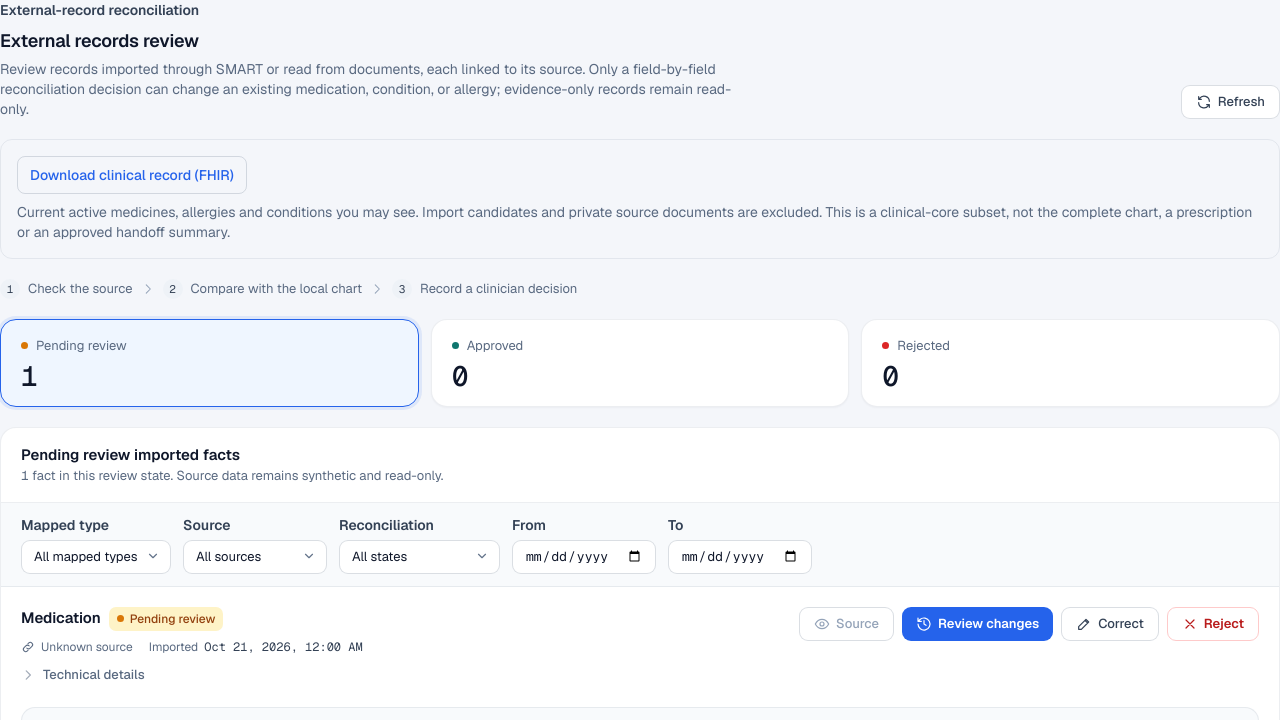
Test: Medication reference in reconciliation preview › explains unavailable without inferring medication safety
The width and height of the screenshot is (1280, 720).
Step 1. Click the button "Review changes" → (978, 624), box [902,606,1053,640]
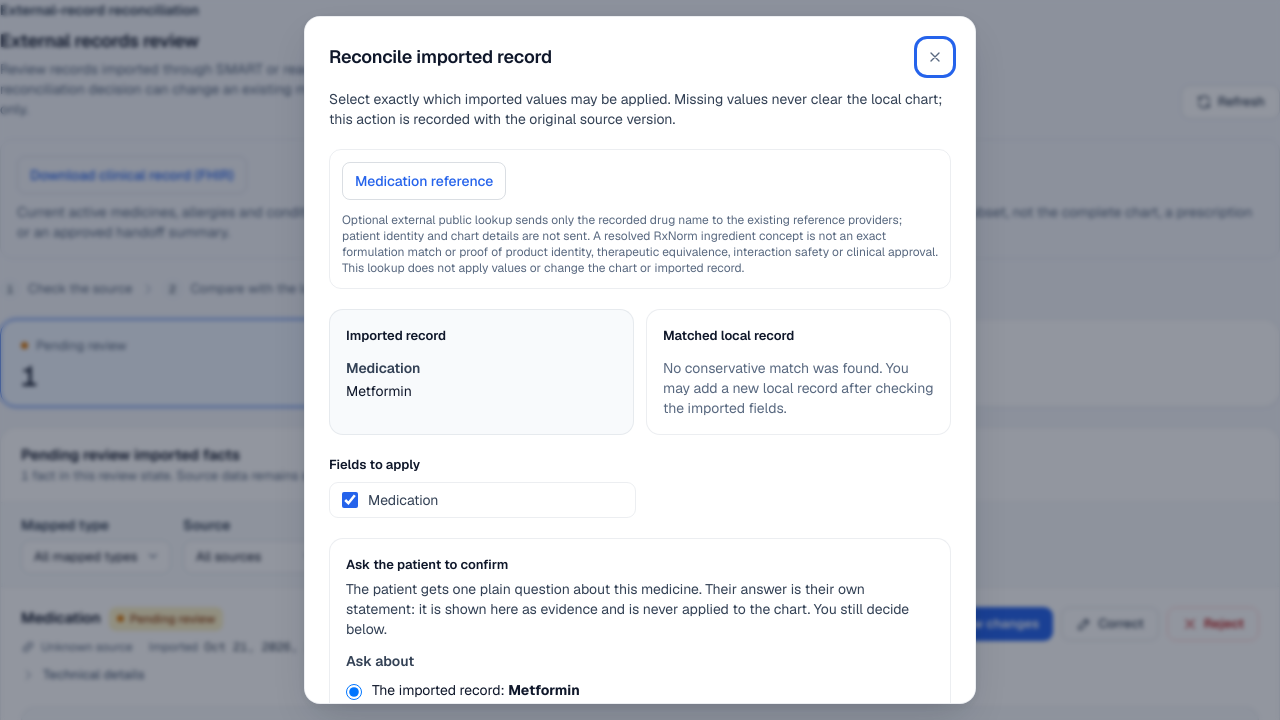
Step 2. Click the button "Medication reference" → (424, 181), box [342,162,506,200]
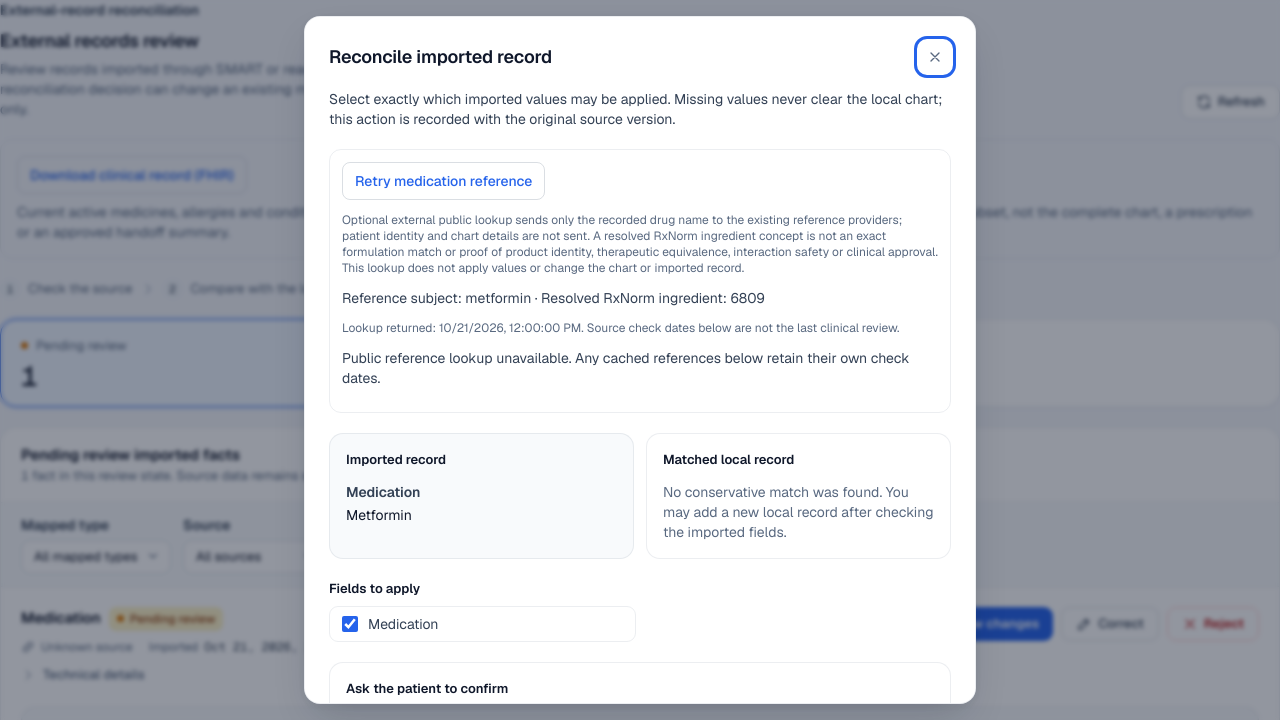
Check: the button "Retry medication reference" is enabled, box [342,162,545,200]
Check: the text "Public reference lookup unavailable" is shown, box [342,349,910,387]
